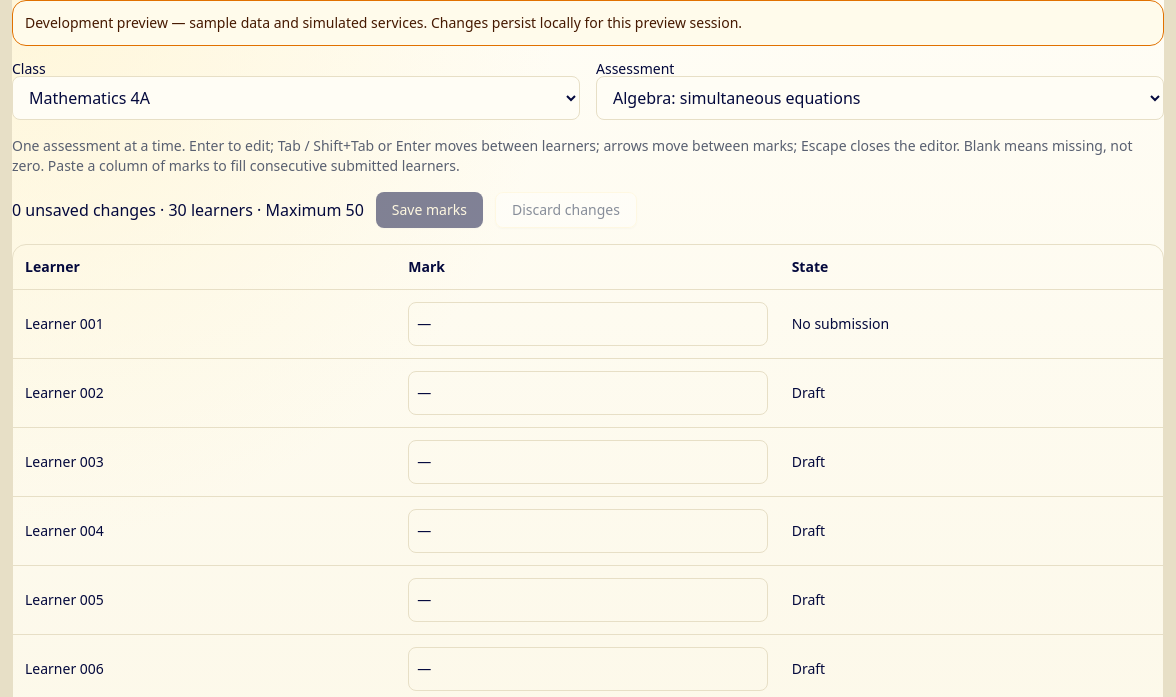
Test case: Controlled gradebook › retains dirty values after a failed save
The width and height of the screenshot is (1176, 697).
Click the button named "Mark for Learner 002: missing": click(424, 392) [408, 371, 768, 415]
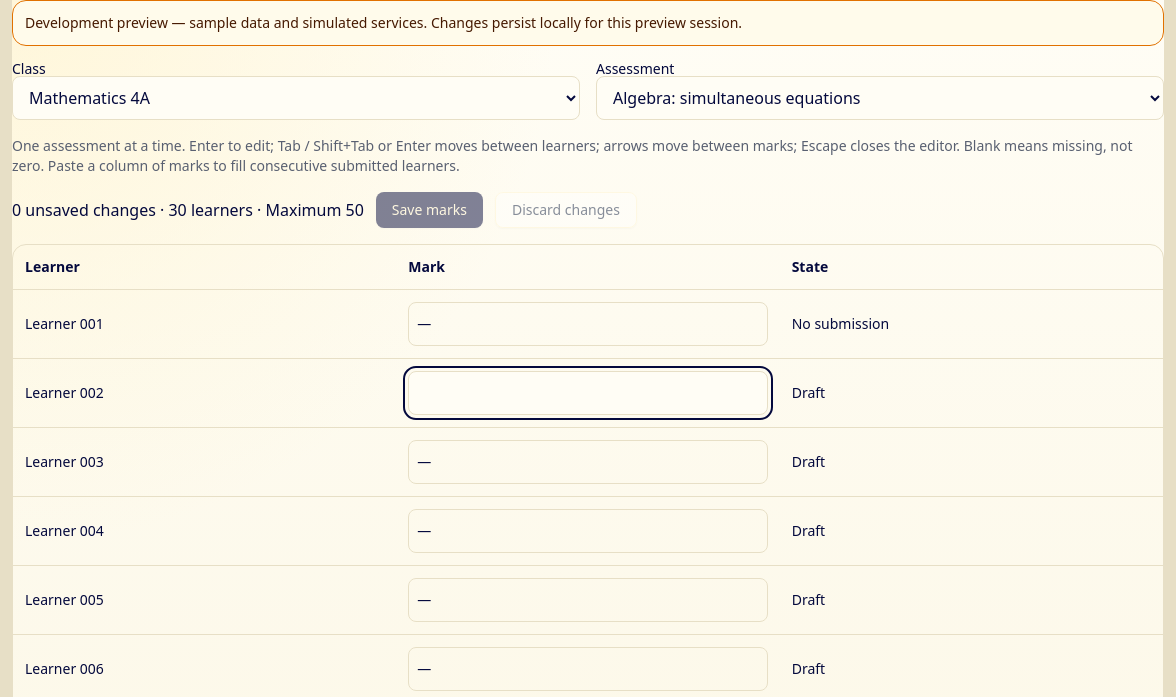
In the field named "Mark for Learner 002": (588, 393) [408, 371, 768, 415], type "32"
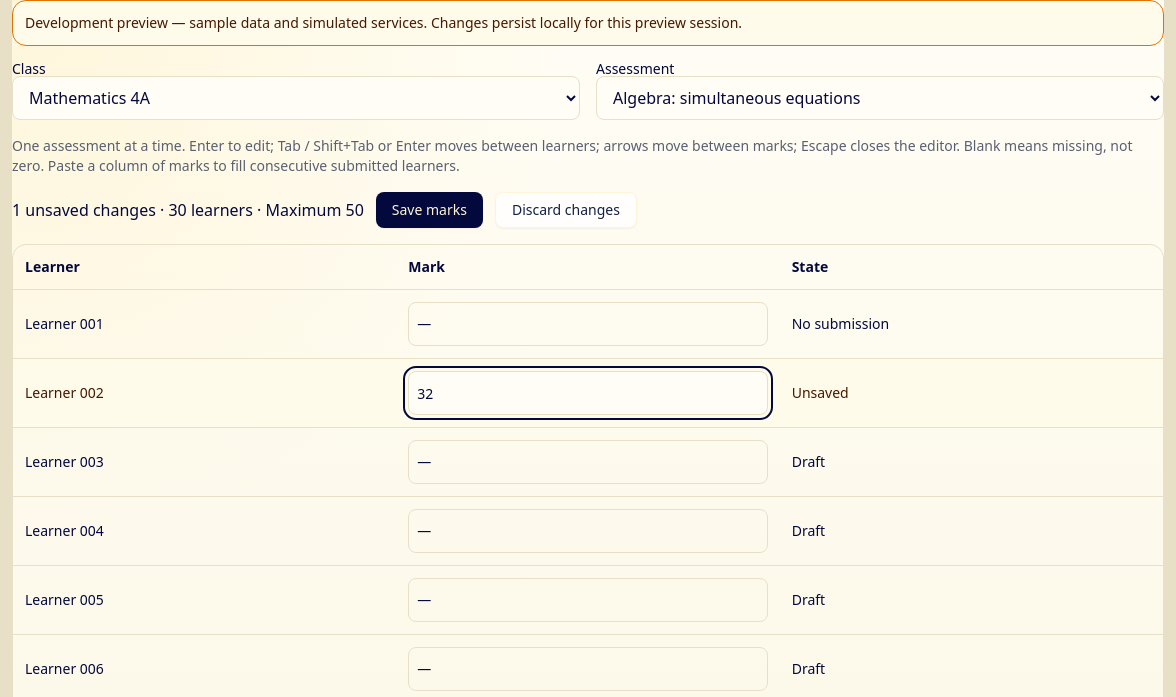
Click the button "Save marks": click(429, 210) [376, 192, 483, 228]
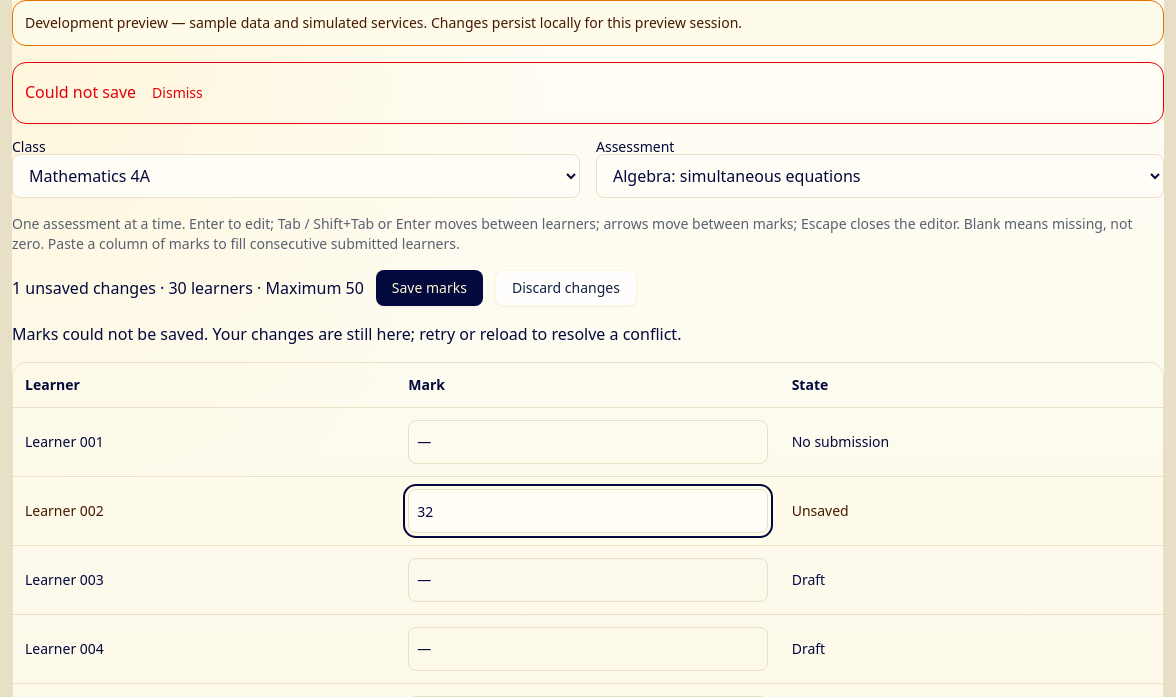
Expected: the text "1 unsaved changes · 30 learners · Maximum 50" is shown, [12, 276, 364, 300]
Expected: the text "Your changes are still here" is shown, [12, 323, 681, 345]
